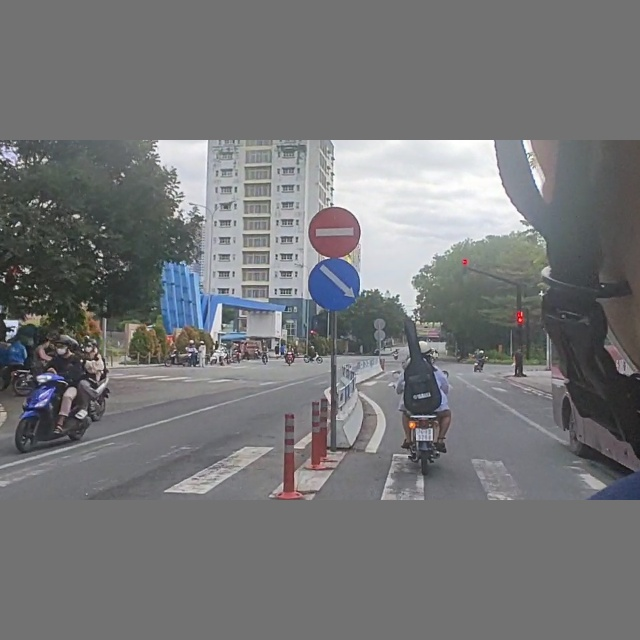P.102: (308, 205, 361, 259)
R.302a: (309, 258, 363, 311)
